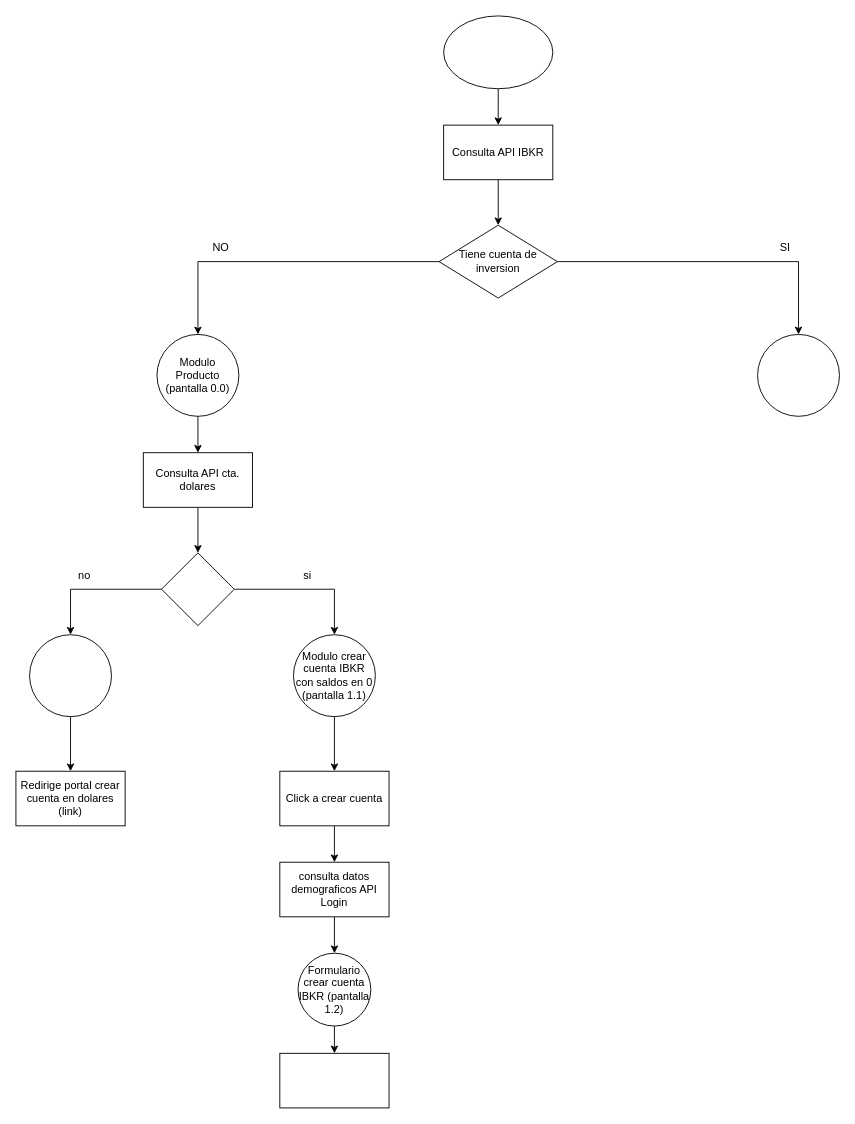
The diagram is 855 pixels wide and 1124 high, and some of its shapes have lost their labels. Here are the shapes that lost their labels. From the top down, the centre of each, then its label:
the point at 498,52: Click submenu inversion extranjera
the point at 798,375: Modulo Mi Cuenta Fondeo (pantalla 1.5)
the point at 197,589: Tiene cta. dolares
the point at 70,675: Modulo crear cuenta dolares (pantalla 1.0)
the point at 334,1080: Click enviar formulario a API Comercial
